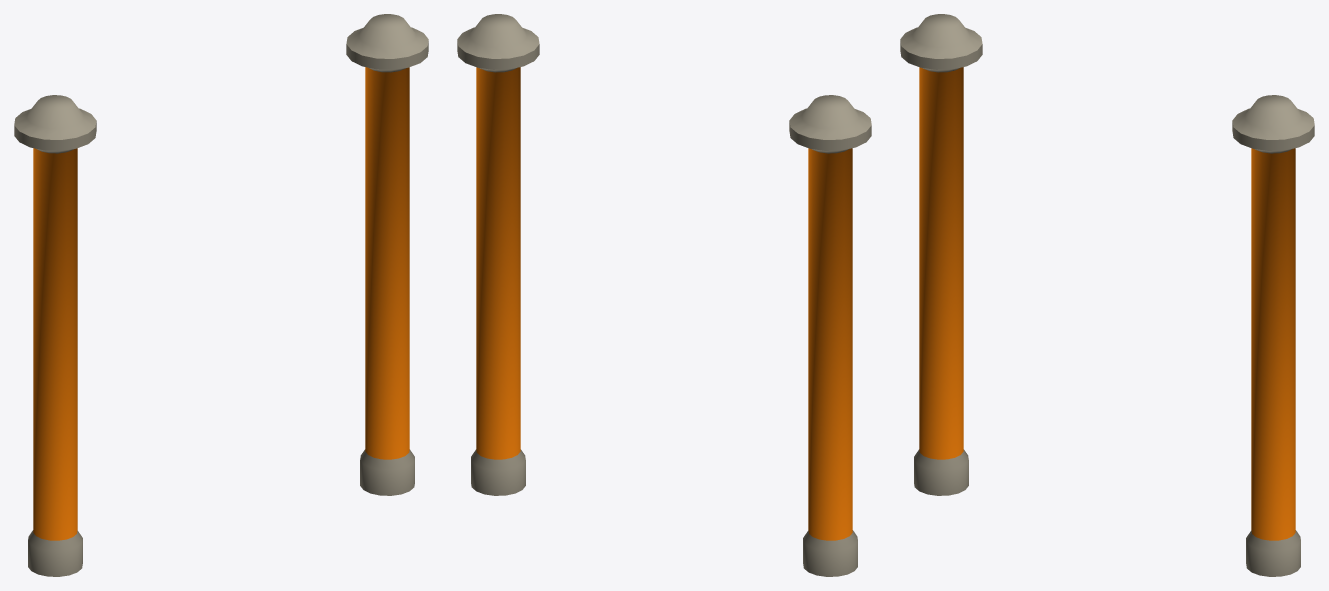
File: Gate.fbx
3 views of the same model, side by side, from view 1: azimuth 30°, elevation 25°; view 2: azimuth 150°, elevation 25°; view 3: azimuth 330°, elevation 25° (orthographic).
Visible parts, largest first — view 1: Gate; view 2: Gate; view 3: Gate.
Part boxes in pixels (x1,y1,x2,y2): Gate: [14, 14, 428, 576]; Gate: [457, 14, 871, 576]; Gate: [900, 14, 1314, 576].
Size of the model in its own units: 11.81 by 12.92 by 2.1.
